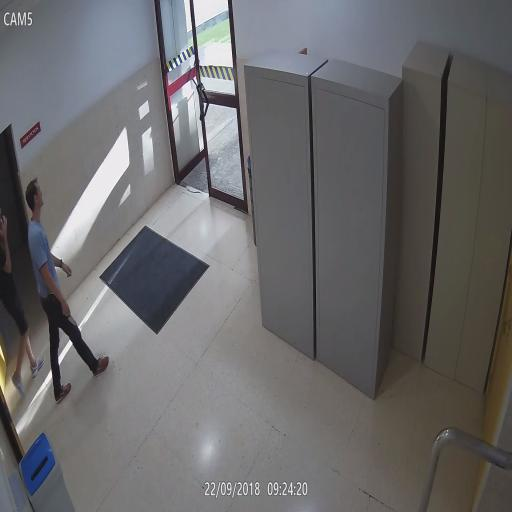Handgun: (47, 290, 59, 317)
